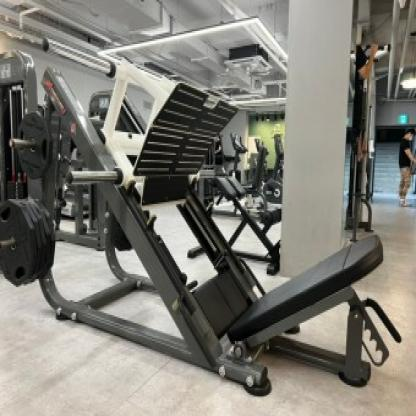leg press: (3, 43, 416, 416)
